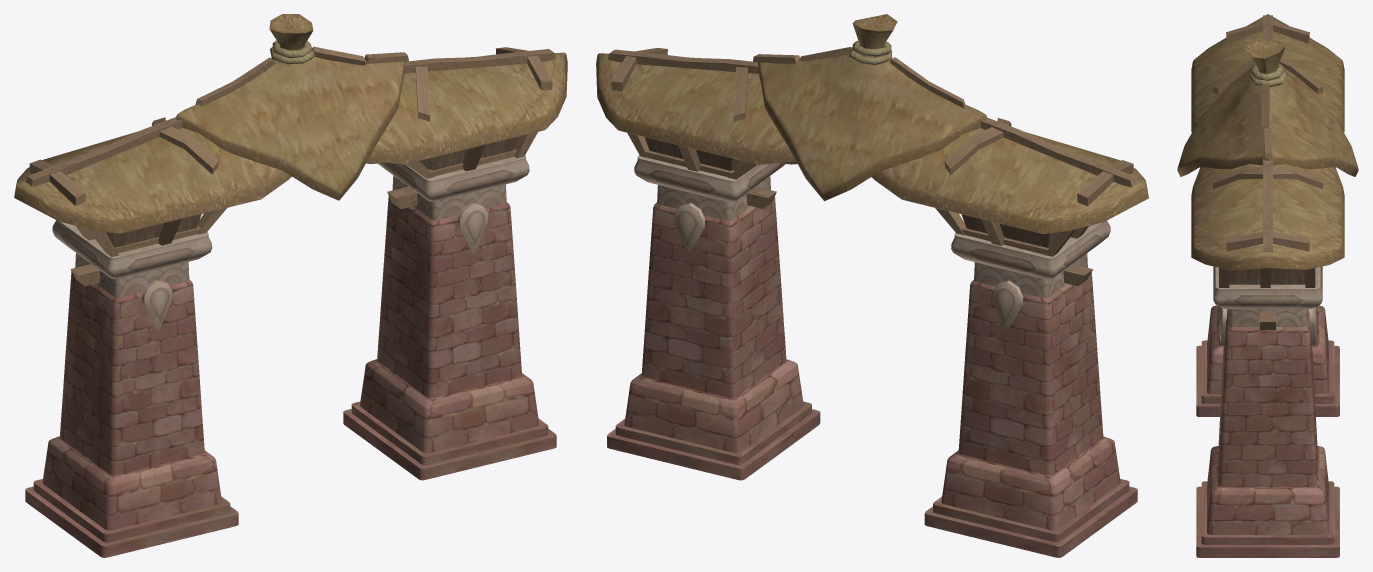
Rendered from Homeworld_Exterior_Xm_Build_Ardoor_01_Lod0.fbx.
3 renders of one model, left to right at view 1: azimuth 30°, elevation 25°; view 2: azimuth 150°, elevation 25°; view 3: azimuth 270°, elevation 25°, orthographic. The views are drawn at different scales.
Visible parts, largest first — view 1: Homeworld_Exterior_Xm_Build_Ardoor_01_Lod0; view 2: Homeworld_Exterior_Xm_Build_Ardoor_01_Lod0; view 3: Homeworld_Exterior_Xm_Build_Ardoor_01_Lod0.
Boxes of the visible parts, x1,y1,x2,y2 form: Homeworld_Exterior_Xm_Build_Ardoor_01_Lod0: (14, 14, 567, 557); Homeworld_Exterior_Xm_Build_Ardoor_01_Lod0: (596, 14, 1148, 557); Homeworld_Exterior_Xm_Build_Ardoor_01_Lod0: (1177, 14, 1358, 557).
Size of the model in its own units: 11.72 by 9.16 by 3.66.
